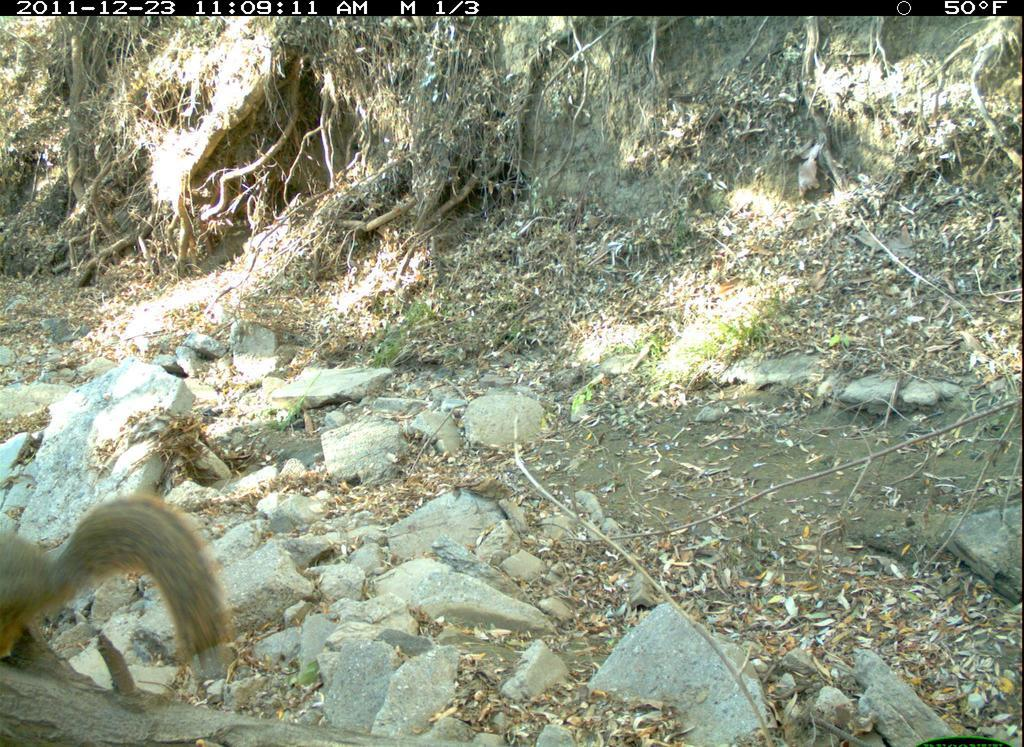squirrel: (1, 465, 241, 678)
